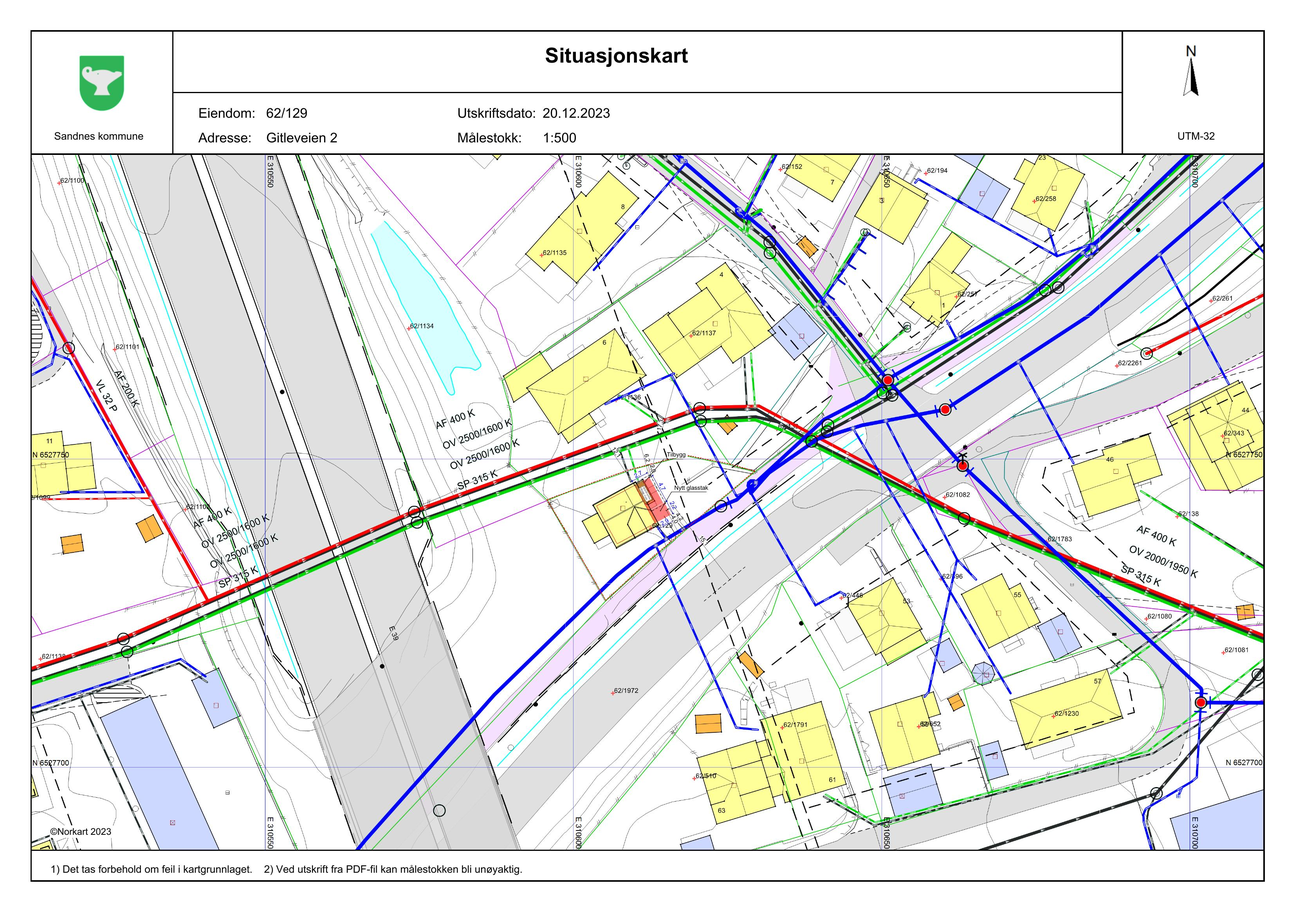situasjonskart: (28, 153, 1265, 851)
